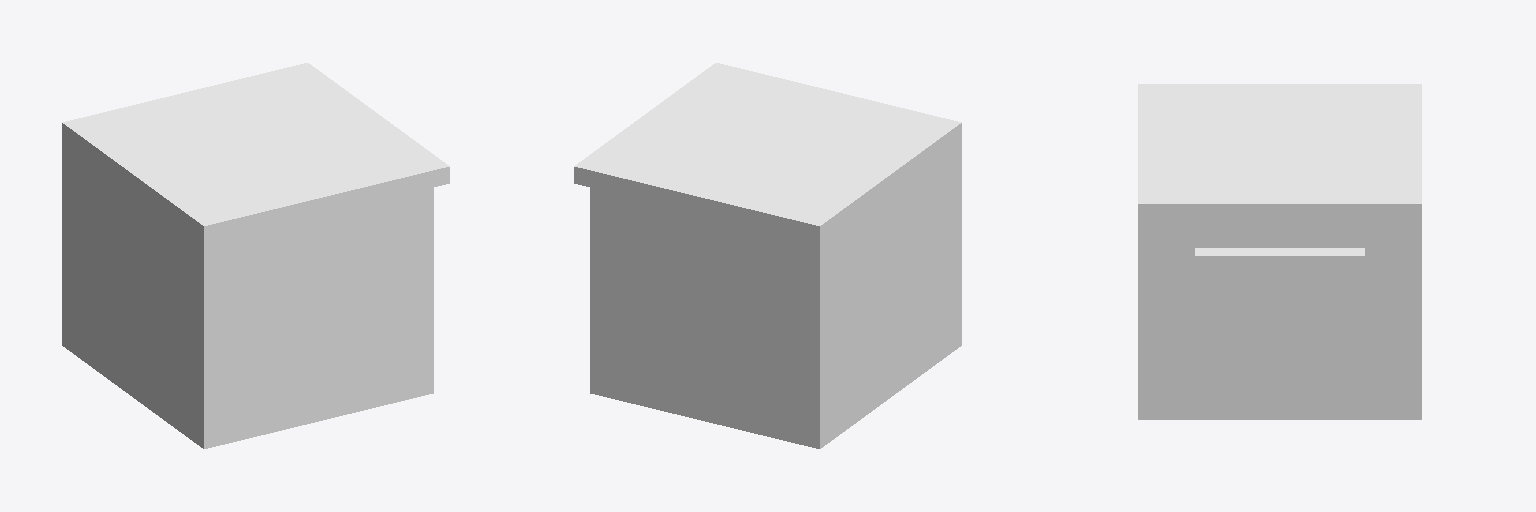
Rendered from Kitchen-2.obj.
The picture shows the model from 3 angles: view 1: azimuth 30°, elevation 25°; view 2: azimuth 150°, elevation 25°; view 3: azimuth 270°, elevation 25°; orthographic projection.
Parts seen in each view (by area): view 1: Kitchen-2; view 2: Kitchen-2; view 3: Kitchen-2.
Boxes of the visible parts, x1,y1,x2,y2 form: Kitchen-2: [62, 63, 449, 448]; Kitchen-2: [574, 63, 961, 448]; Kitchen-2: [1138, 84, 1421, 419].
Size of the model in its own units: 15 by 13 by 15.